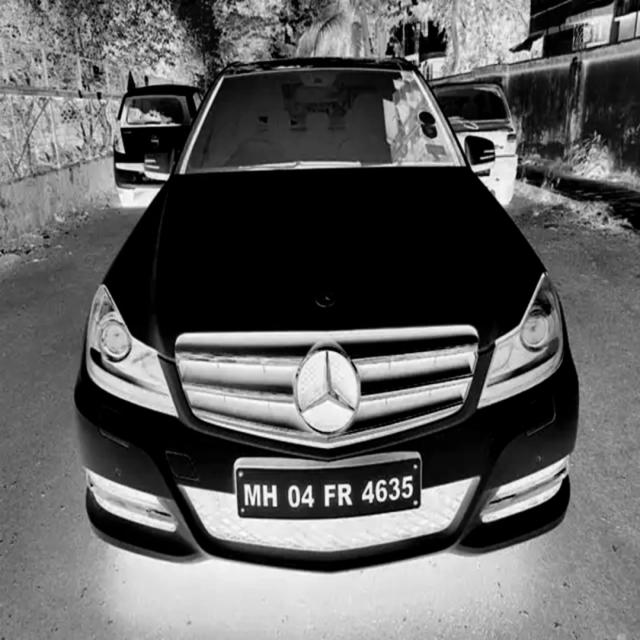Non_registered: (237, 464, 424, 511)
